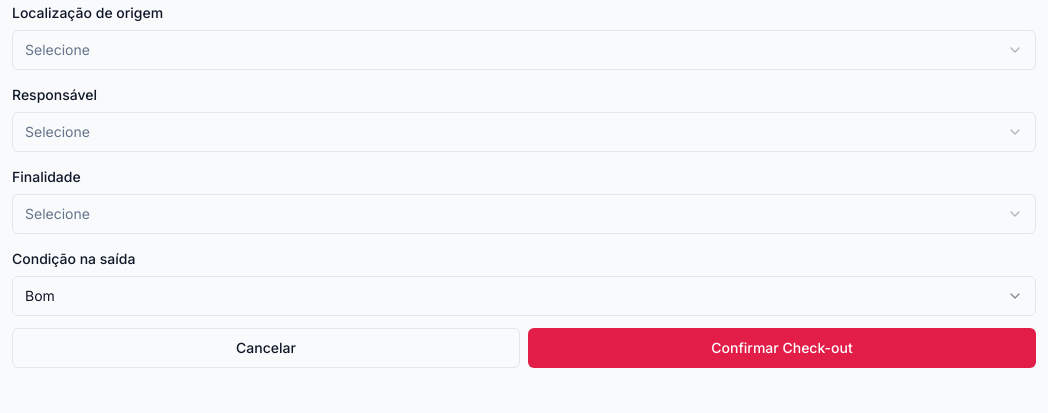
Test: ScannerOperationForm - CHECK-OUT › 8. com múltiplas origens válidas, exige a escolha antes de montar o contexto
Expected: the dropdown labelled "Selecione" below "Localização de origem" is shown, left=12, top=30, right=1036, bottom=70
Click the button "Confirmar Check-out": [782, 348] box left=528, top=328, right=1036, bottom=368
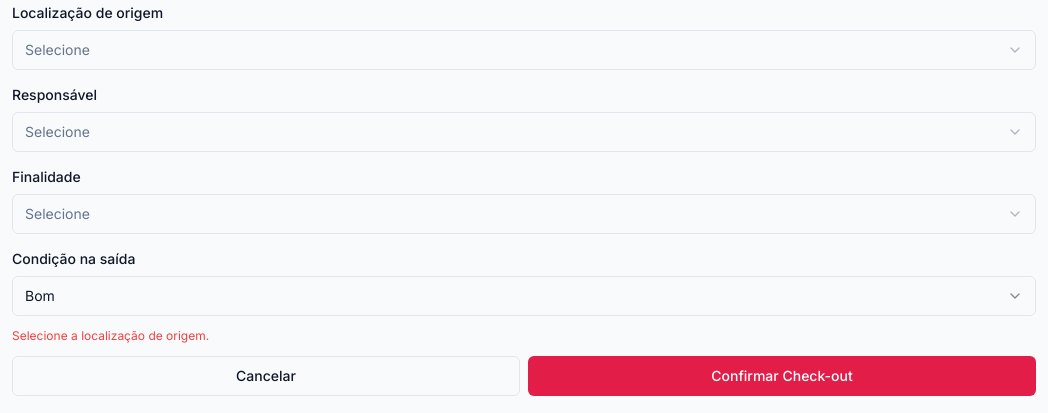
Now the text "Selecione a localização de origem." is shown, box left=12, top=328, right=209, bottom=343
